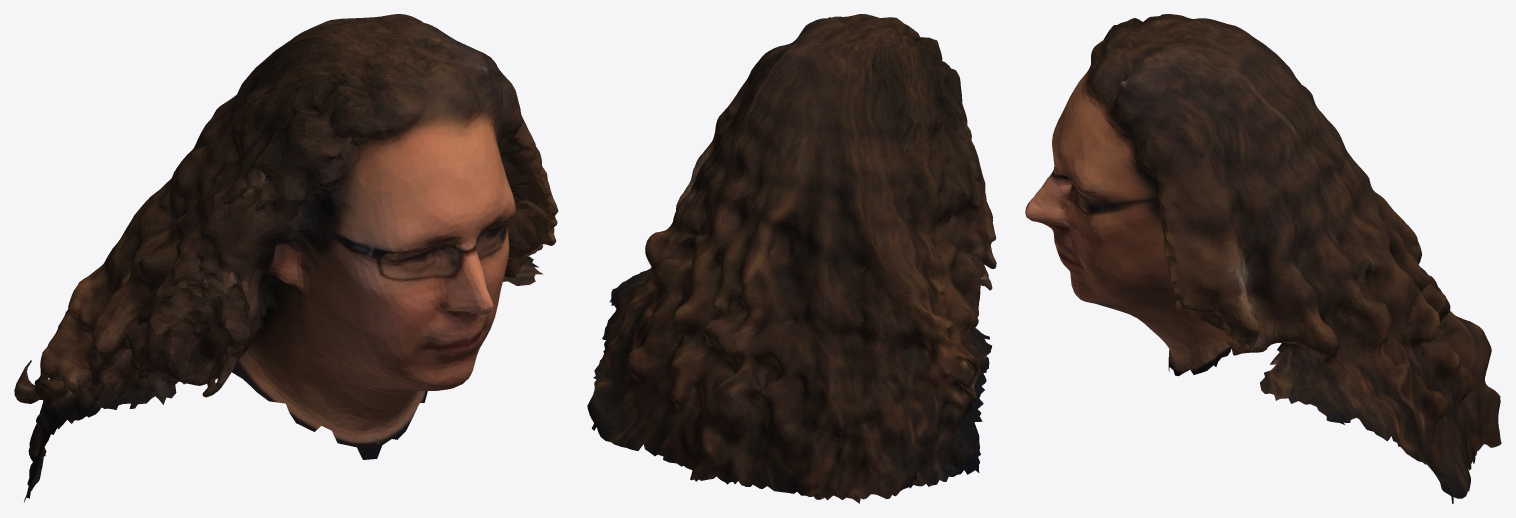
Rendered from model_mini.obj.
The picture shows the model from 3 angles, left to right: view 1: azimuth 30°, elevation 25°; view 2: azimuth 150°, elevation 25°; view 3: azimuth 270°, elevation 25°; orthographic projection. The views are drawn at different scales.
Visible parts, largest first — view 1: model_mesh; view 2: model_mesh; view 3: model_mesh.
Boxes of the visible parts, box(x1,y1,x2,y2) form: model_mesh: box(14, 14, 558, 502); model_mesh: box(587, 14, 996, 503); model_mesh: box(1025, 14, 1501, 503).
Size of the model in its own units: 0.2509 by 0.2285 by 0.2455.
Materials: 1 (1 with a texture image).
